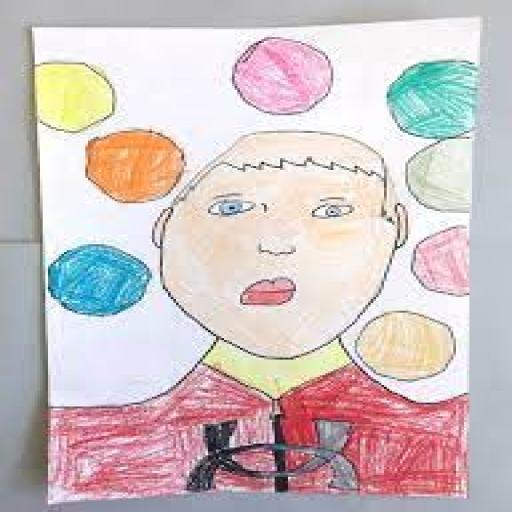person: (53, 125, 472, 498)
